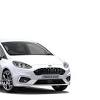Ford: (1, 39, 72, 93)
